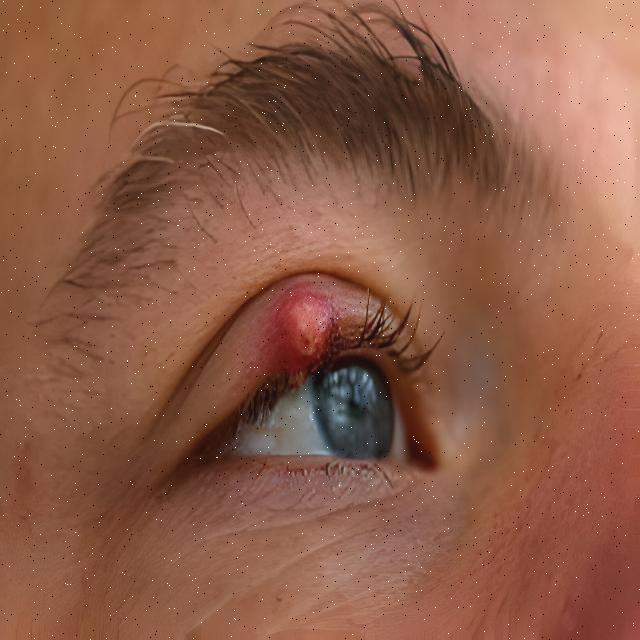Stye: (243, 265, 385, 415)
